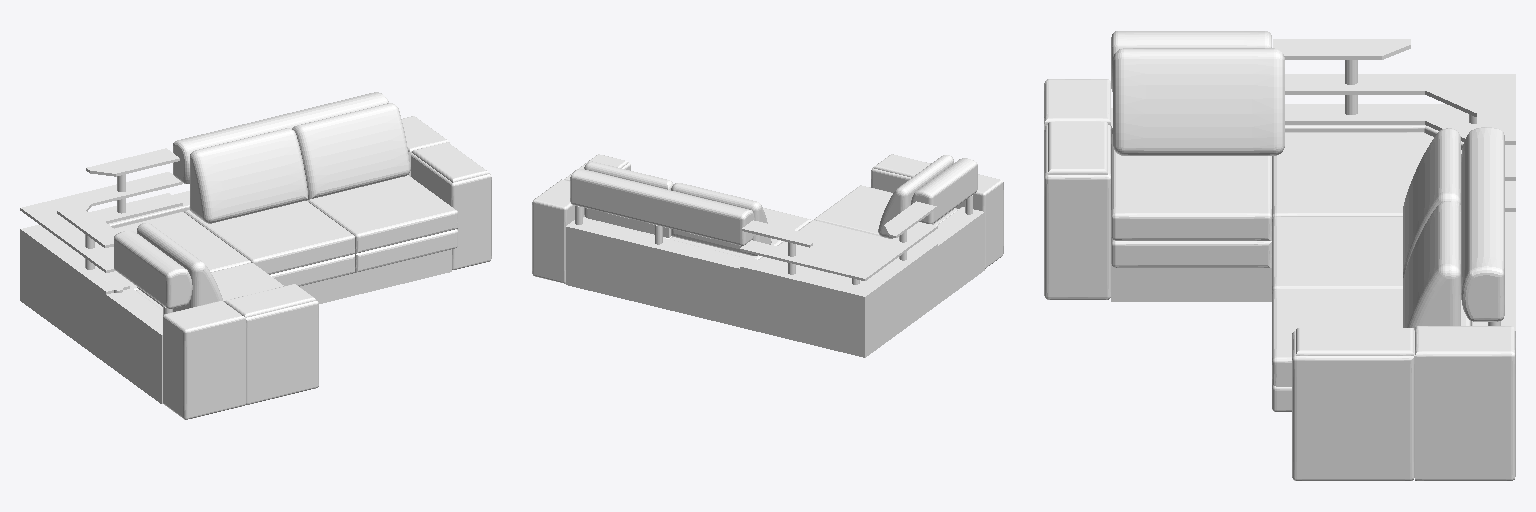
URDF robot description (sofa_l_shape):
<robot
  name="sofa_l_shape">
  <link
    name="sofa_l_shape">
    <inertial>
      <origin
        xyz="0.53515 0.54118 0.31534"
        rpy="0 0 0" />
      <mass
        value="2391.9" />
      <inertia
        ixx="897.422281914237"
        ixy="566.785378382428"
        ixz="20.4546357988851"
        iyy="1891.08657731611"
        iyz="-10.2617150812874"
        izz="2577.11359455057" />
    </inertial>
    <visual>
      <origin
        xyz="0 0 0"
        rpy="0 0 0" />
      <geometry>
        <mesh
          filename="package://sofa_l_shape/meshes/sofa_l_shape.dae" />
      </geometry>
      <material
        name="">
        <color
          rgba="1 1 1 1" />
      </material>
    </visual>
    <collision>
      <origin
        xyz="0 0 0"
        rpy="0 0 0" />
      <geometry>
        <mesh
          filename="package://sofa_l_shape/meshes/sofa_l_shape.dae" />
      </geometry>
    </collision>
  </link>
</robot>

--- Render facts (derived) ---
The picture shows the robot from 3 angles, left to right: view 1: azimuth 30°, elevation 25°; view 2: azimuth 150°, elevation 25°; view 3: azimuth 270°, elevation 25°; orthographic projection.
Robot: sofa_l_shape — 1 links, 0 joints (none); root link sofa_l_shape; default pose: all joints at 0.
Visible links, largest first — view 1: sofa_l_shape; view 2: sofa_l_shape; view 3: sofa_l_shape.
Link boxes in pixels (x1=…): sofa_l_shape: x1=20, y1=92, x2=491, y2=419; sofa_l_shape: x1=532, y1=154, x2=1003, y2=357; sofa_l_shape: x1=1044, y1=31, x2=1515, y2=480.
Size in the robot's own frame: 2.92 by 2.11 by 0.9167 metres.
1 mesh visuals loaded from 1 distinct referenced files (1 Collada DAE).